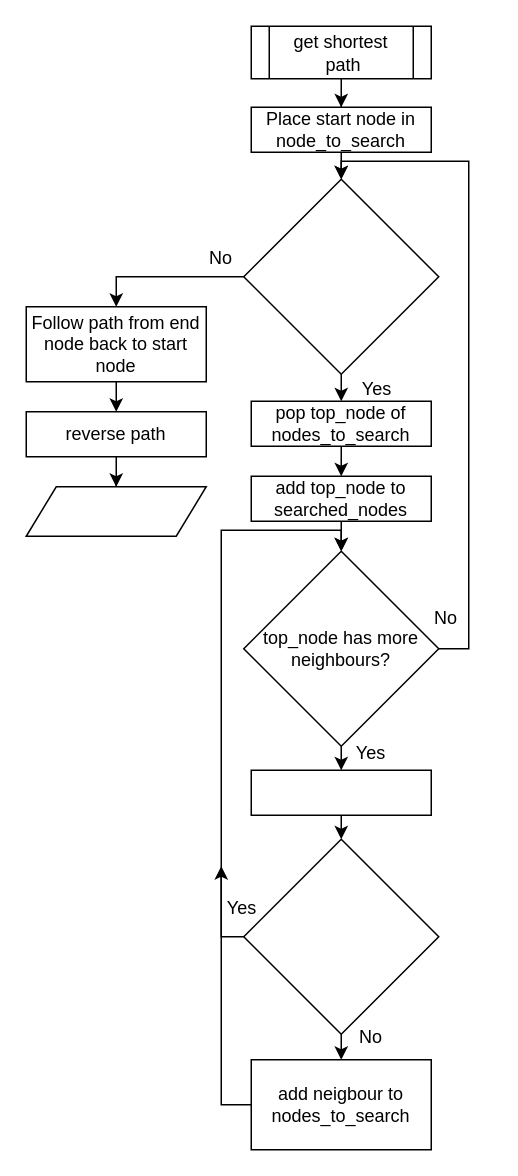
The diagram is 518 pixels wide and 1176 high, and some of its shapes have lost their labels. Each missing label, with the centre of its shape:
get next neighbour of top_node: (x=340, y=792)
More nodes in nodes_to_search?: (x=340, y=276)
neighbour in searched_nodes: (x=340, y=936)
return path: (x=115, y=510)
